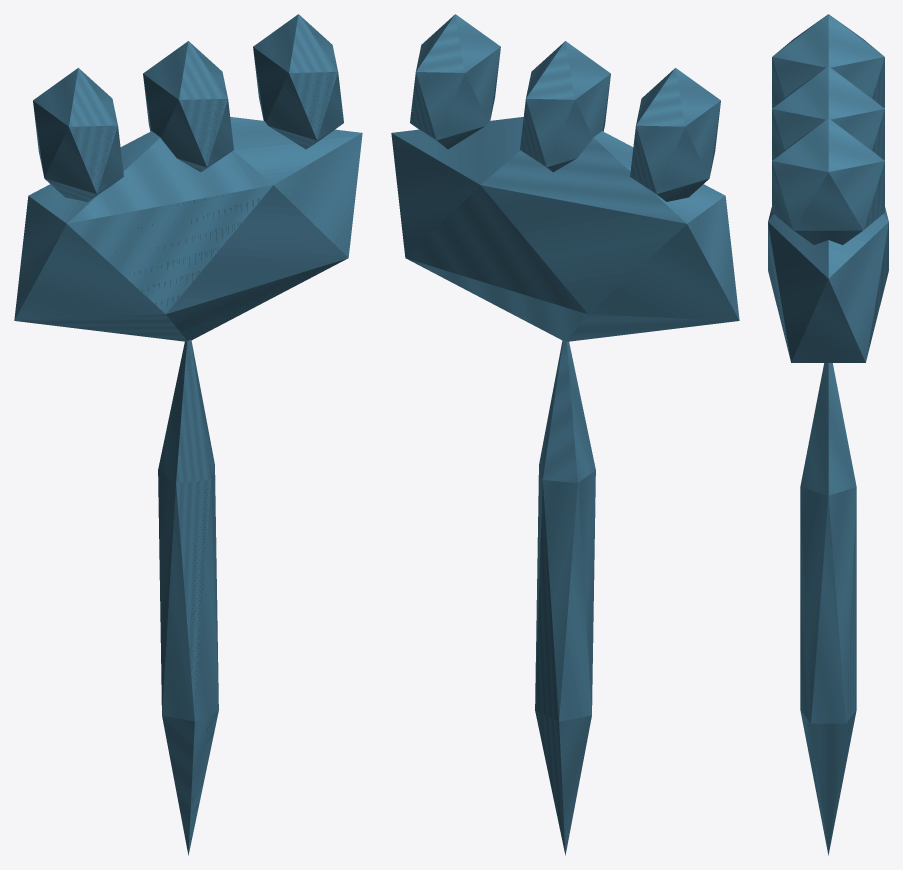
File: third_pulse.glb
3 renders of one model, left to right at view 1: azimuth 30°, elevation 25°; view 2: azimuth 150°, elevation 25°; view 3: azimuth 270°, elevation 25°, orthographic. The views are drawn at different scales.
Visible parts, largest first — view 1: gear_third_pulse; view 2: gear_third_pulse; view 3: gear_third_pulse.
Boxes of the visible parts, x1,y1,x2,y2 form: gear_third_pulse: (14, 14, 362, 855); gear_third_pulse: (391, 14, 739, 855); gear_third_pulse: (768, 14, 888, 855).
Bounding box in the file's own units: 0.4114 × 0.92 × 0.1276.
1 material, 1 textured.
